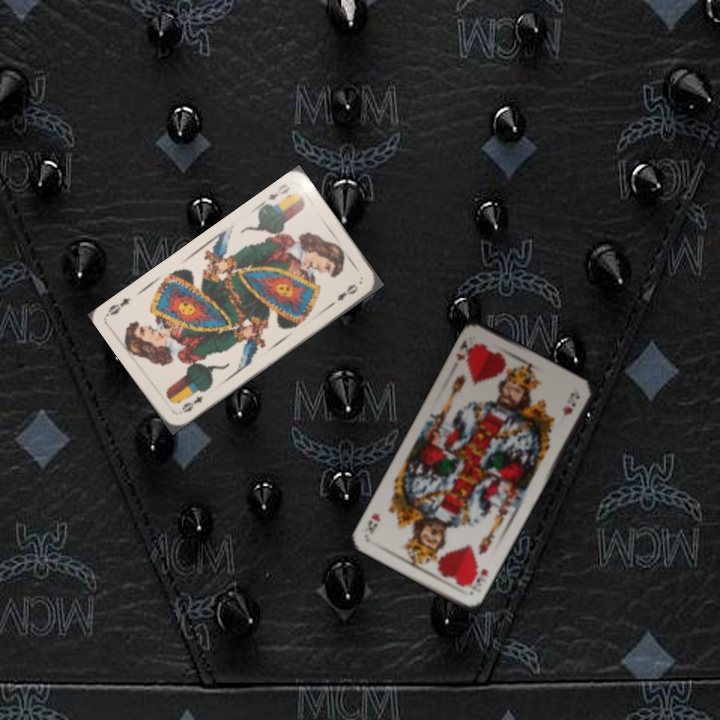EO: (257, 179, 294, 210), (178, 391, 205, 416)
HK: (452, 335, 480, 368), (466, 564, 491, 592)
